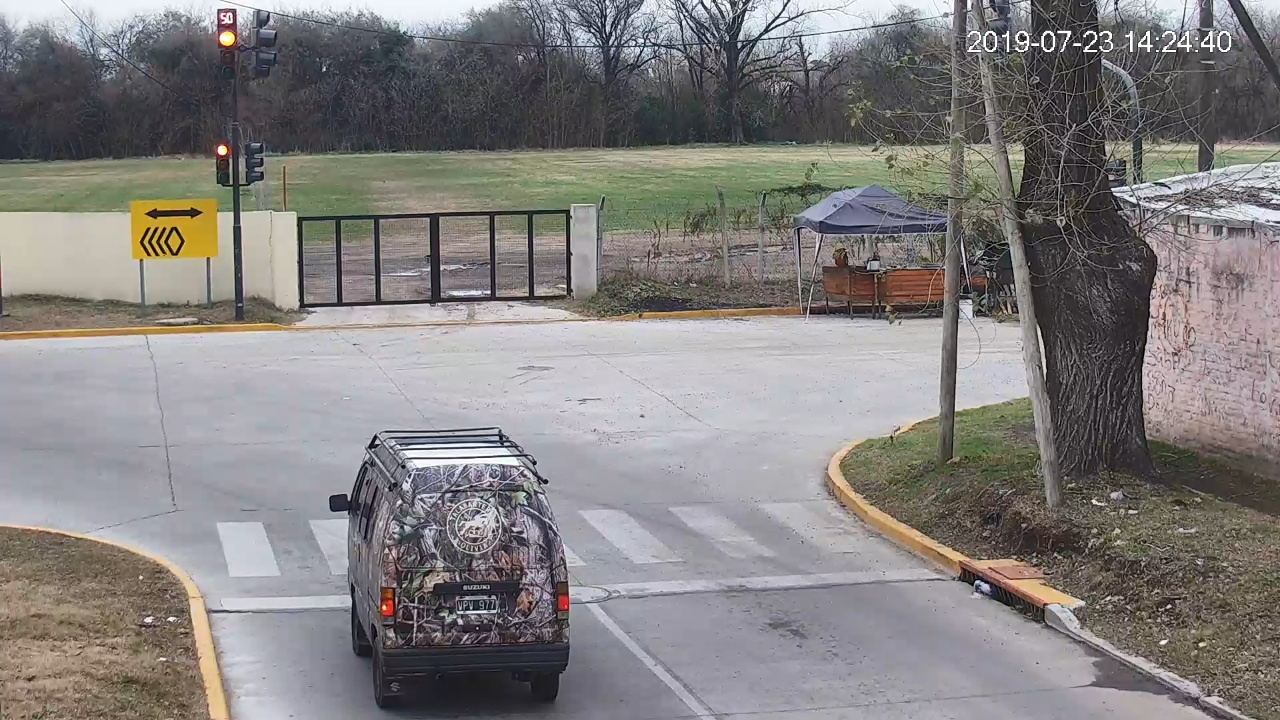car: (329, 427, 570, 706)
traffic light: (218, 29, 237, 79), (215, 144, 231, 185)
